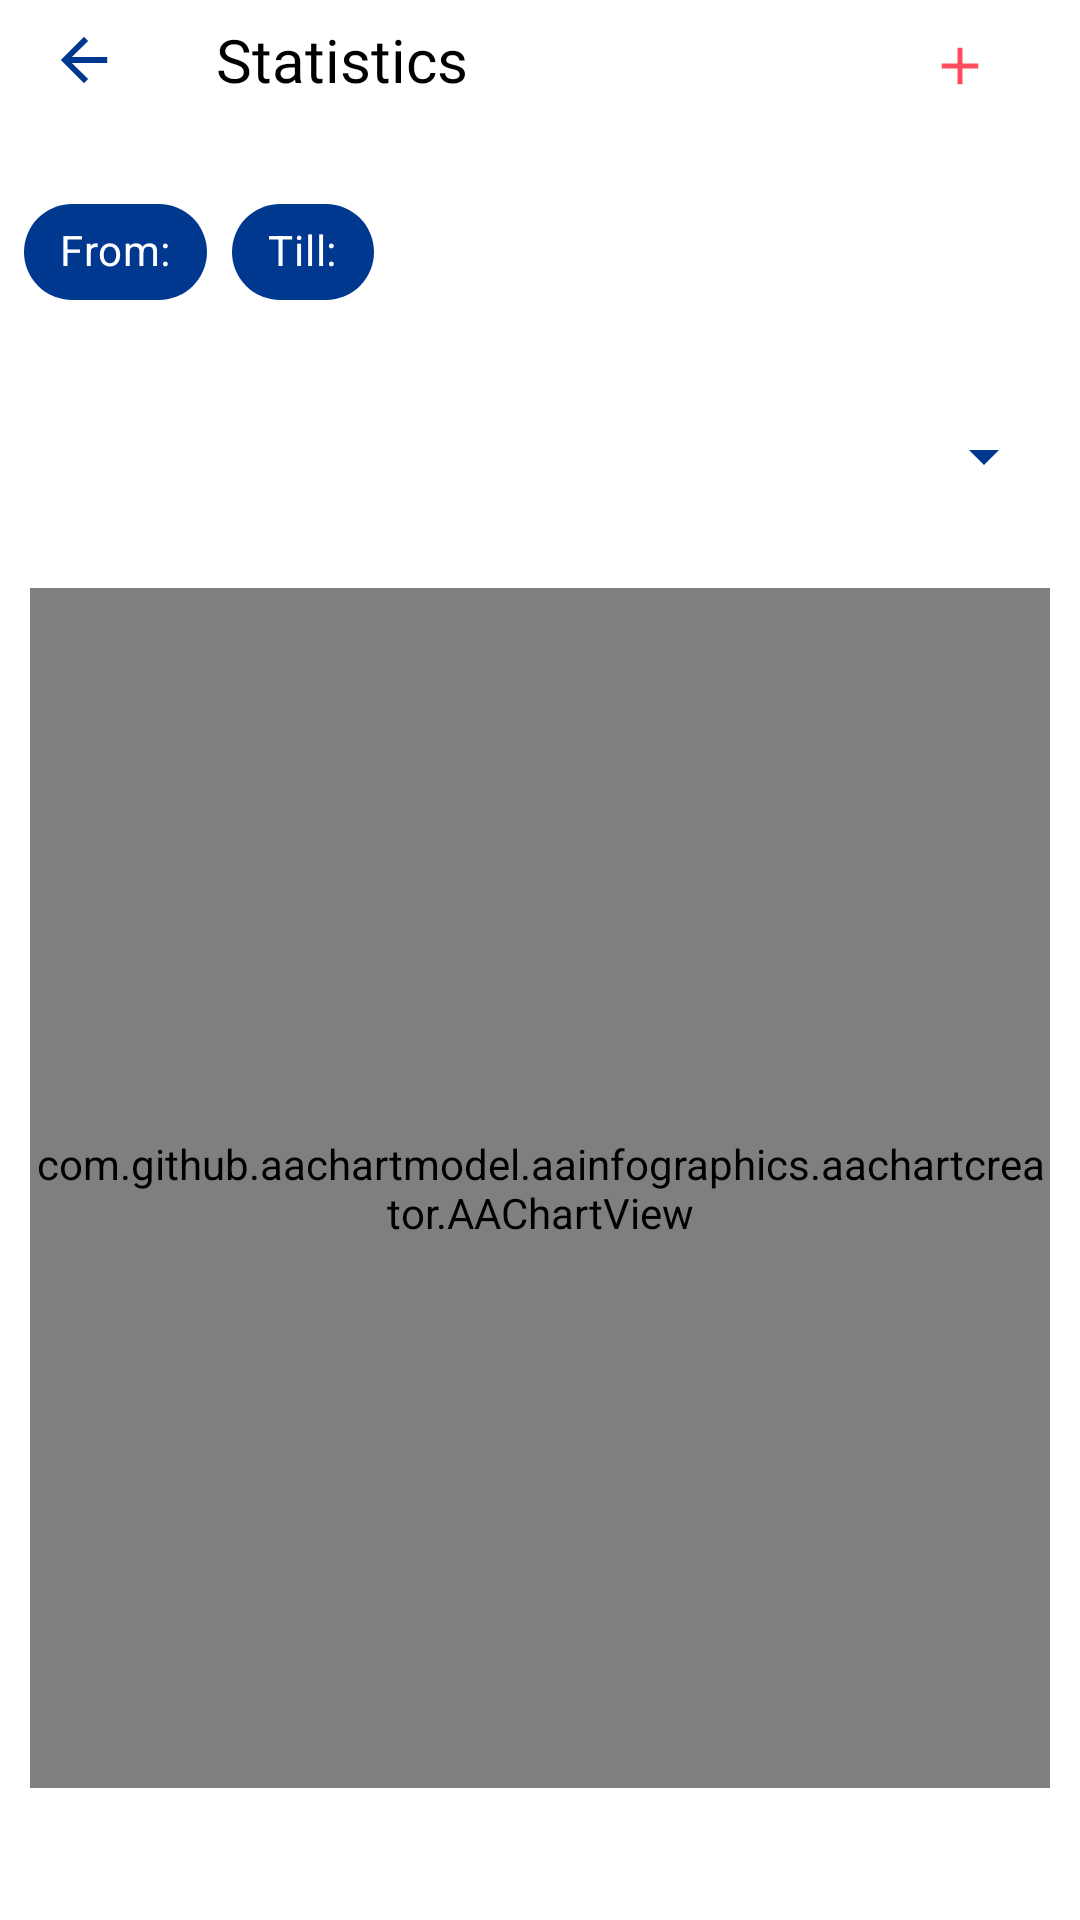

Point at icon controls on the screen. Image size 1080*1920, points as point (x, y).
plus: point (960, 66)
